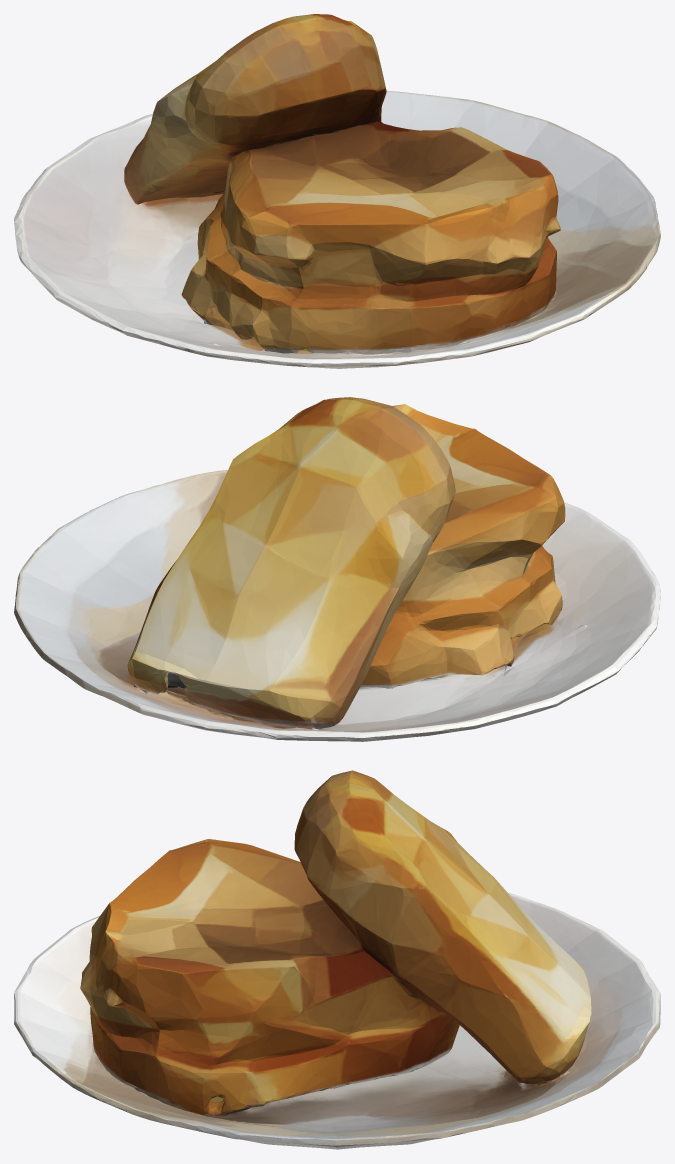
File: toast.glb
3 renders of one model, top to bottom at view 1: azimuth 30°, elevation 25°; view 2: azimuth 150°, elevation 25°; view 3: azimuth 270°, elevation 25°, orthographic.
Parts seen in each view (by area): view 1: world; view 2: world; view 3: world.
Part boxes in pixels (x1,y1,x2,y2): world: (14, 14, 660, 368); world: (14, 397, 660, 741); world: (14, 770, 660, 1149).
Size of the model in its own units: 0.7988 by 0.3584 by 0.7992.
1 material, 1 textured.
